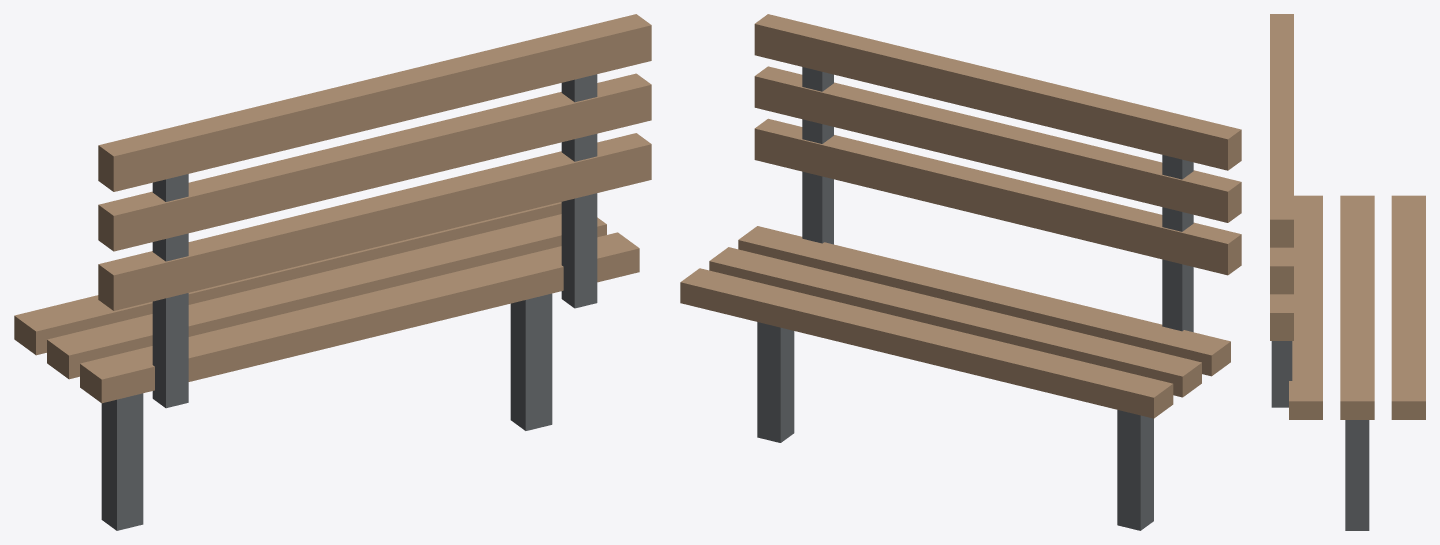
Rendered from bench_04.glb.
3 views of the same model, side by side, from view 1: azimuth 30°, elevation 25°; view 2: azimuth 150°, elevation 25°; view 3: azimuth 270°, elevation 25° (orthographic). The views are drawn at different scales.
Parts seen in each view (by area): view 1: back2, back0, back1, slat0.15, slat0.0, slat-0.15, leg-0.5396, leg0.5396, backpost0.5396, backpost-0.5396; view 2: back2, back0, back1, slat-0.15, slat0.0, slat0.15, leg0.5396, leg-0.5396, backpost0.5396, backpost-0.5396; view 3: slat0.0, slat-0.15, slat0.15, back2, leg0.5396, backpost0.5396, back1, back0.
Part boxes in pixels (x1,y1,x2,y2): back2: (98, 14, 651, 191); back0: (98, 133, 651, 310); back1: (98, 73, 651, 251); slat0.15: (80, 232, 639, 403); slat0.0: (47, 214, 606, 379); slat-0.15: (14, 202, 561, 355); leg-0.5396: (101, 393, 143, 530); leg0.5396: (510, 293, 552, 430); backpost0.5396: (561, 74, 597, 308); backpost-0.5396: (152, 174, 188, 408); back2: (754, 14, 1241, 170); back0: (754, 118, 1241, 275); back1: (754, 66, 1241, 222); slat-0.15: (680, 268, 1173, 418); slat0.0: (709, 247, 1201, 397); slat0.15: (738, 226, 1230, 376); leg0.5396: (757, 322, 794, 442); leg-0.5396: (1117, 410, 1153, 530); backpost0.5396: (802, 67, 833, 244); backpost-0.5396: (1162, 155, 1193, 332); slat0.0: (1340, 195, 1374, 419); slat-0.15: (1391, 195, 1425, 419); slat0.15: (1289, 195, 1322, 419); back2: (1270, 14, 1293, 247); leg0.5396: (1345, 420, 1369, 530); backpost0.5396: (1271, 341, 1292, 407); back1: (1270, 247, 1293, 294); back0: (1270, 294, 1293, 340).
Size of the model in its own units: 1.42 by 1.07 by 0.455.
